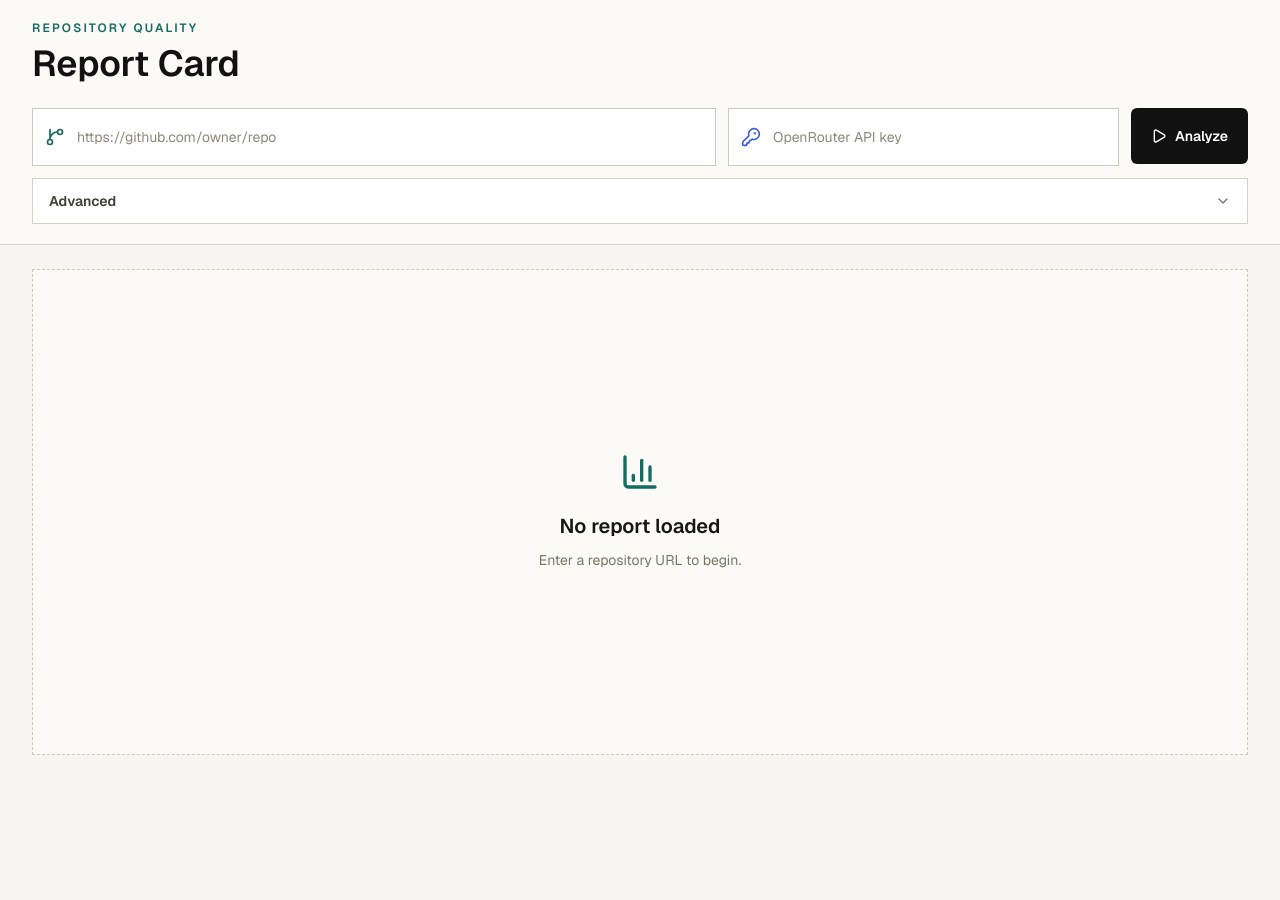
AnalyzeRepositoryPanel › advances through red-style loading phases while analysis is pending
The image size is (1280, 900).
In the field named "GitHub repository URL": (390, 137) [77,117,703,157], type "https://github.com/lightstrikelabs/repo-analyzer-green"
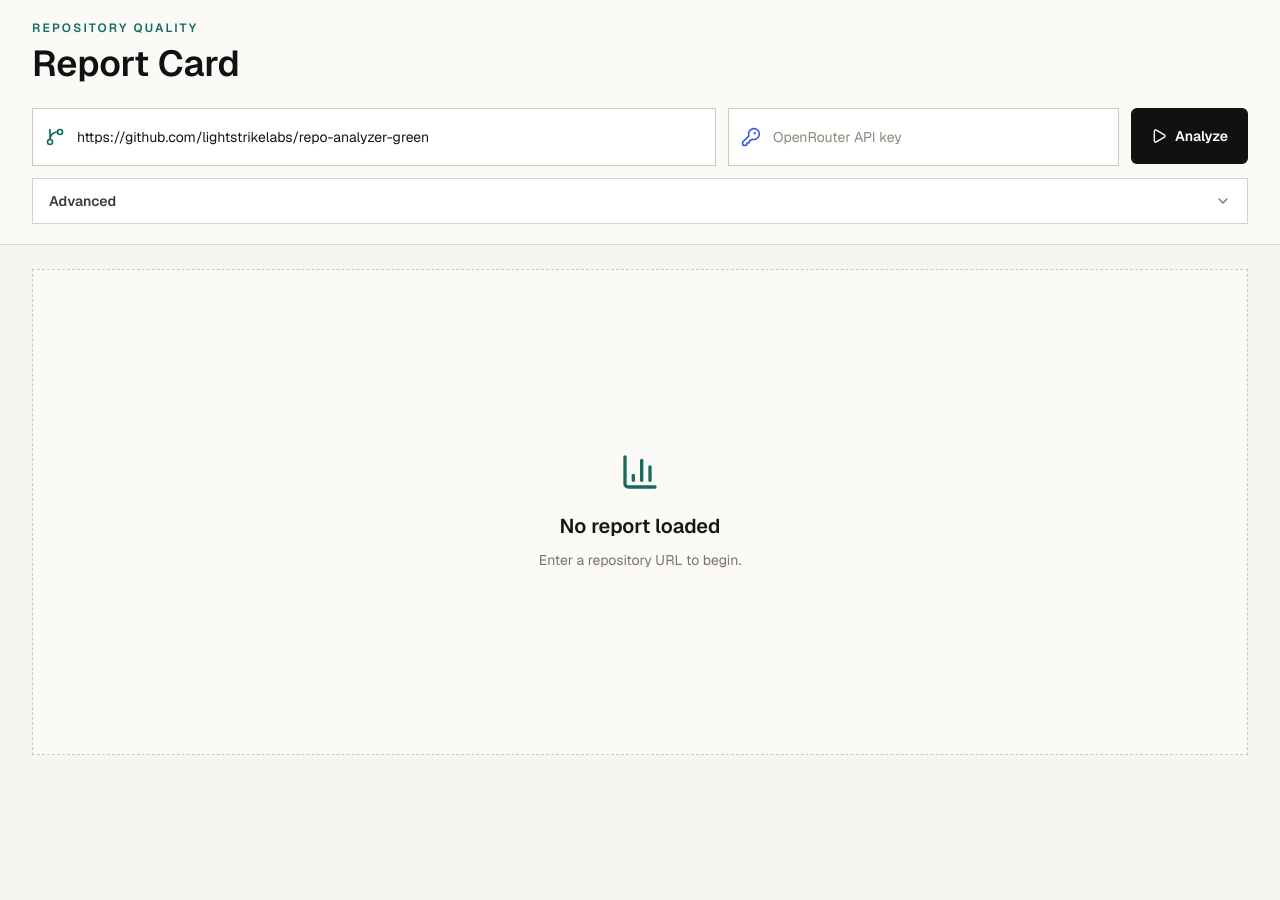
Click the button "Analyze": (1190, 136) [1131,108,1248,164]
Wait 2400 ms
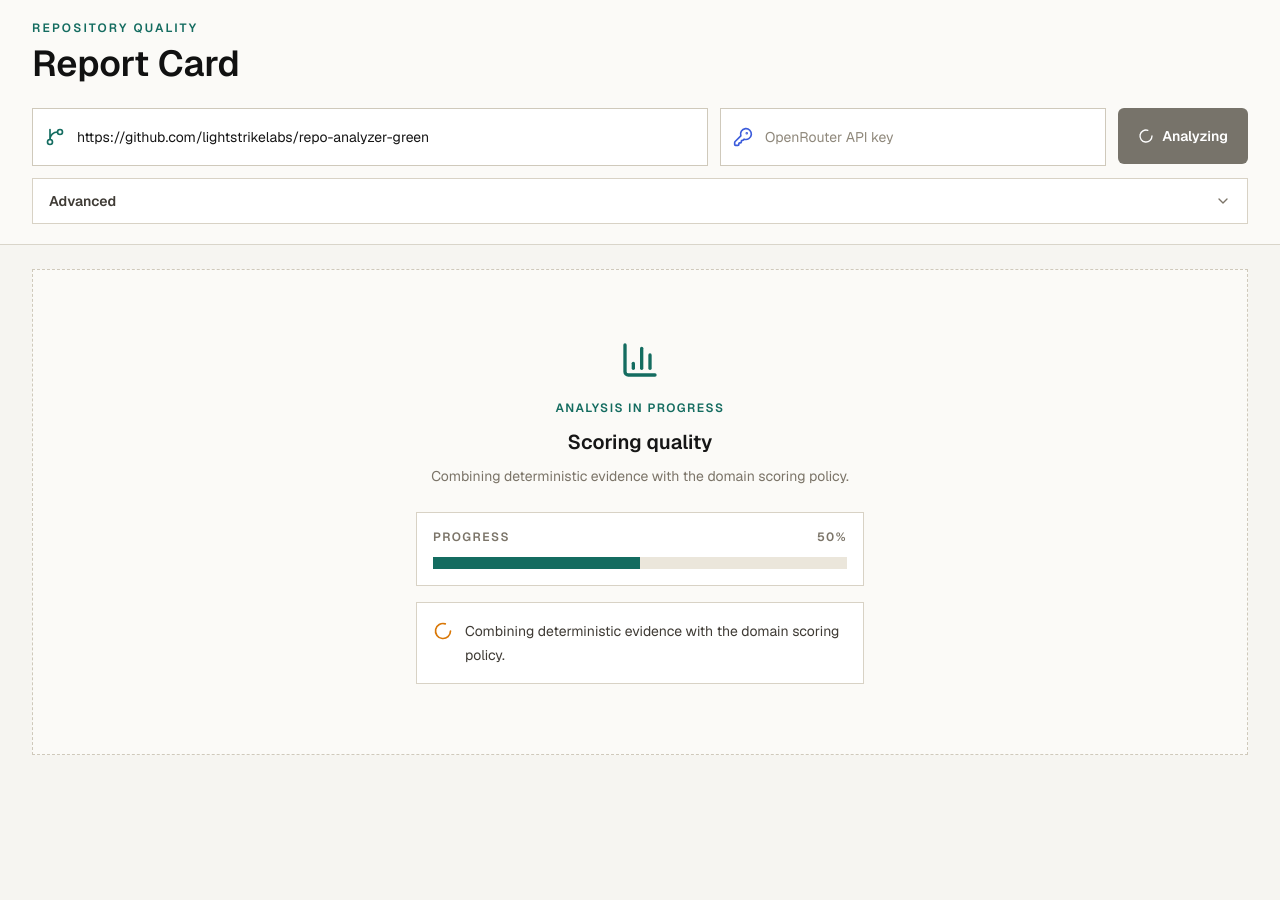
Now the heading "Scoring quality" is shown, box [568,429,712,455]
